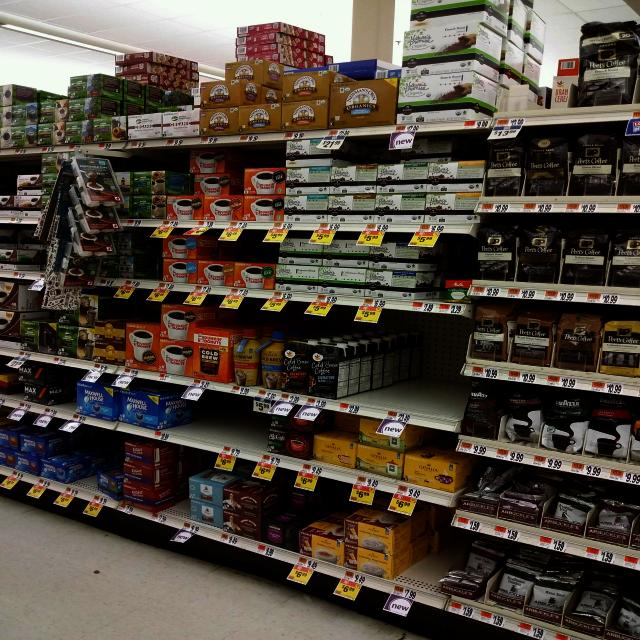empty_space: (377, 323, 459, 405), (199, 402, 257, 441)
